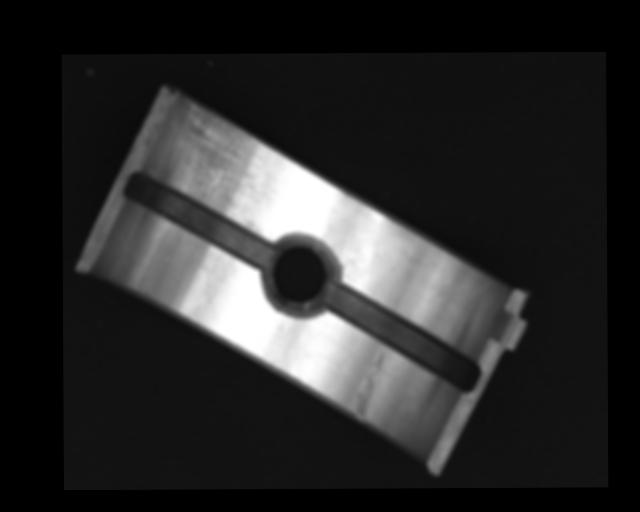gap: (328, 281, 479, 393), (121, 171, 274, 268)
hole: (264, 232, 335, 313)
nick: (352, 352, 386, 423)
scratch: (164, 104, 268, 212)
